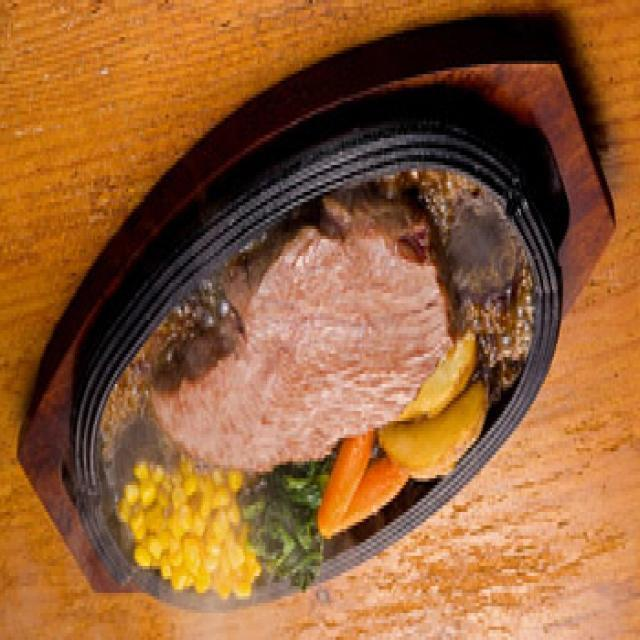Beef Steak: (156, 179, 446, 458)
